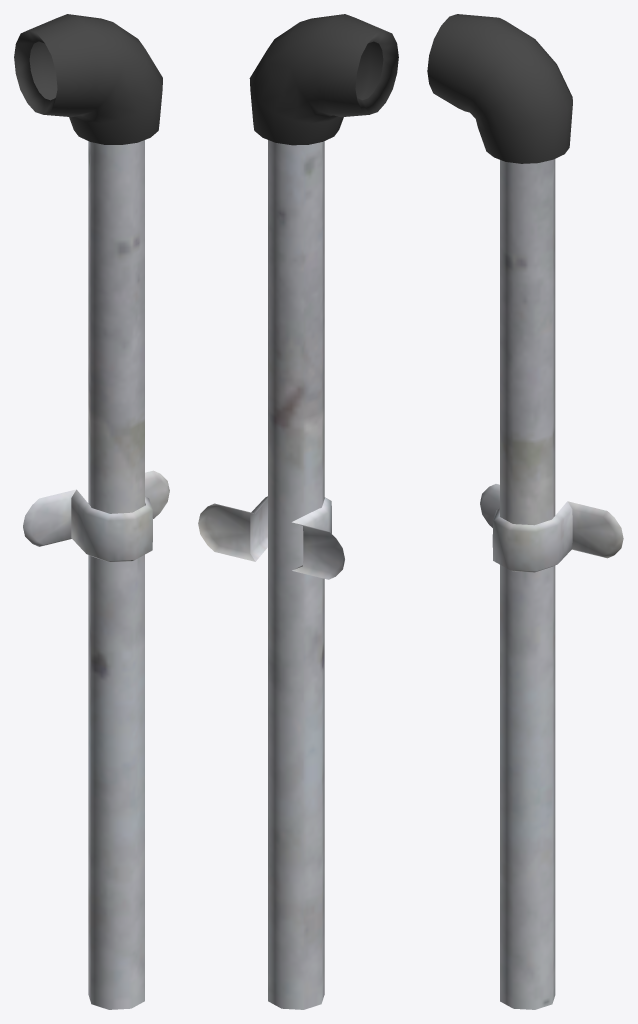
The model's file is SM_Pipe_50_Angled_01a.glb.
The picture shows the model from 3 angles, left to right: view 1: azimuth 30°, elevation 25°; view 2: azimuth 150°, elevation 25°; view 3: azimuth 330°, elevation 25°; orthographic projection. The views are drawn at different scales.
Visible parts, largest first — view 1: SM_Pipe_50_Angled_01a; view 2: SM_Pipe_50_Angled_01a; view 3: SM_Pipe_50_Angled_01a.
Part boxes in pixels (x1,y1,x2,y2): SM_Pipe_50_Angled_01a: [14, 14, 169, 1009]; SM_Pipe_50_Angled_01a: [198, 14, 398, 1009]; SM_Pipe_50_Angled_01a: [427, 14, 623, 1009].
Bounding box in the file's own units: 0.087 × 0.5241 × 0.0499.
Materials: 1 (1 with a texture image).
